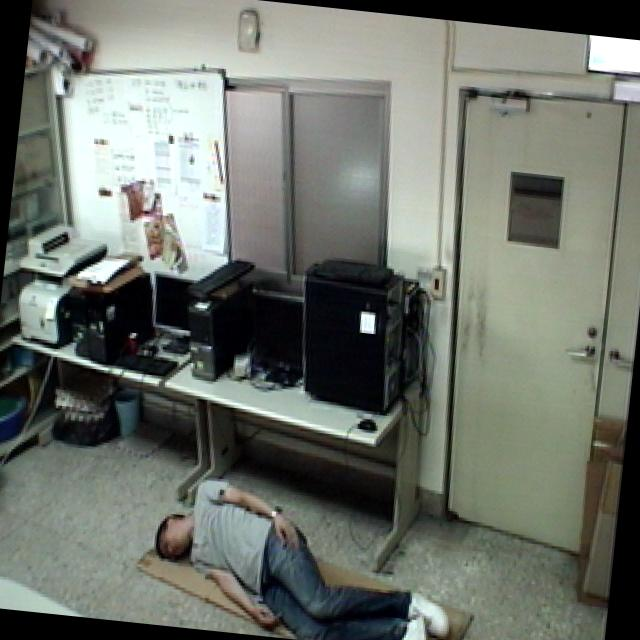lie: (138, 462, 473, 640)
